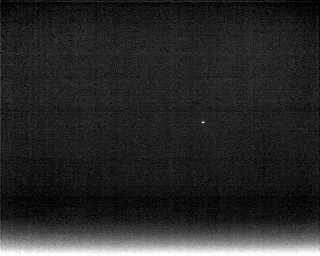AIRPLANE: (199, 118, 207, 127)
